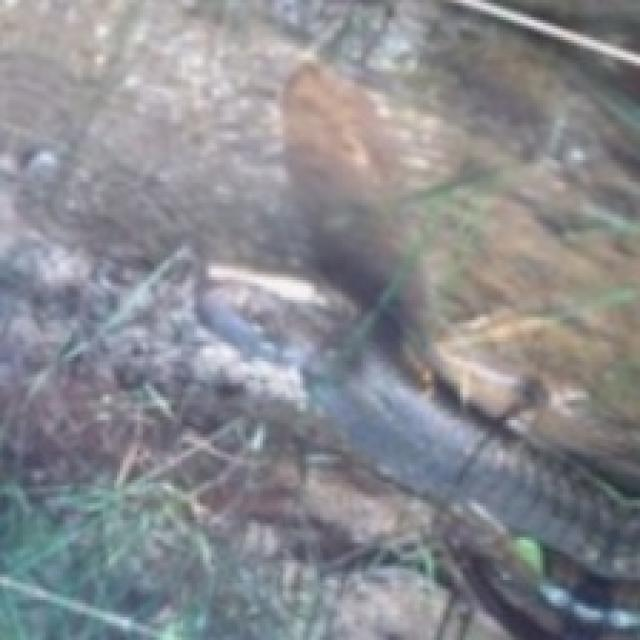king cobra: (0, 0, 637, 637), (0, 51, 637, 637)
